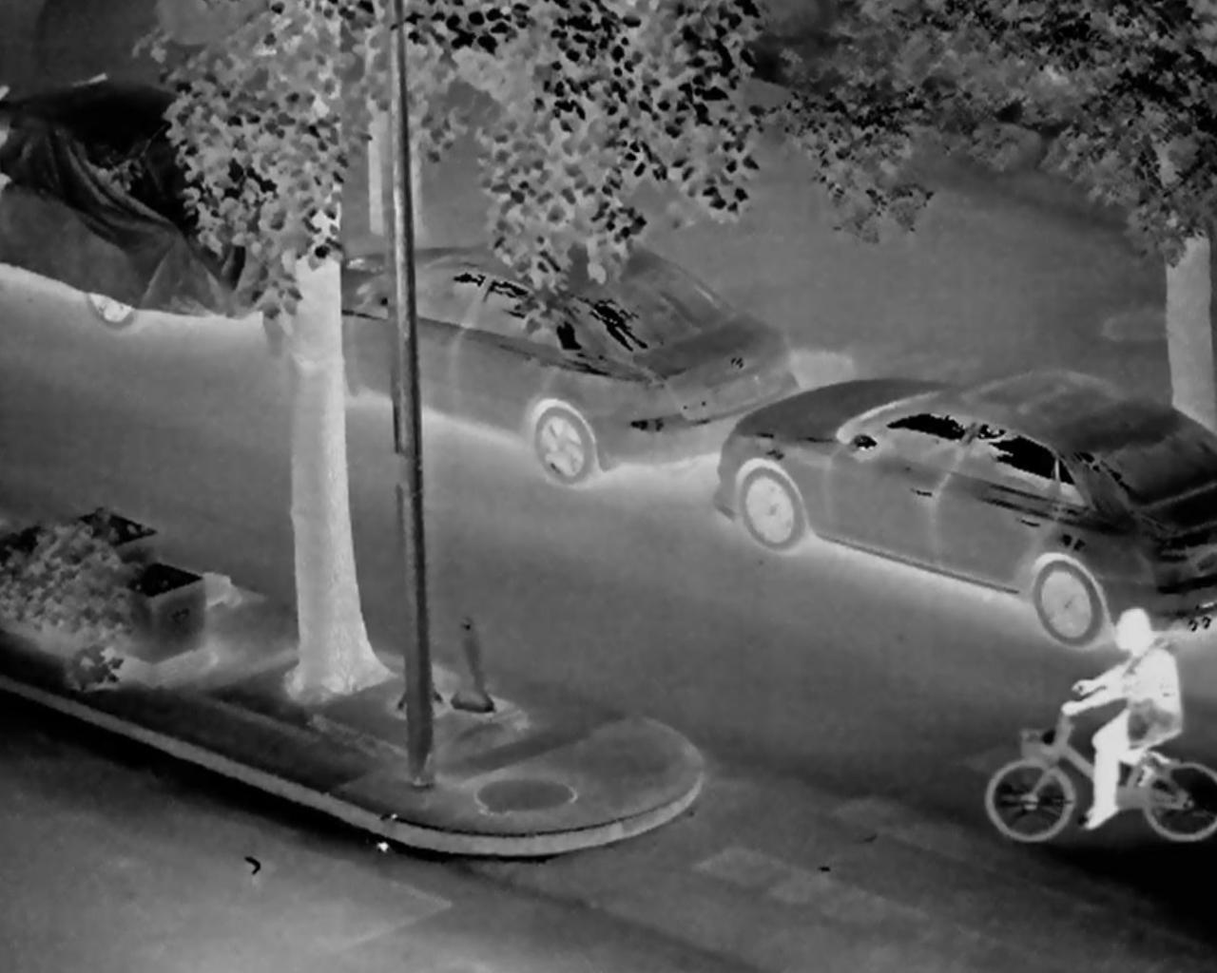person: (1034, 591, 1181, 854)
